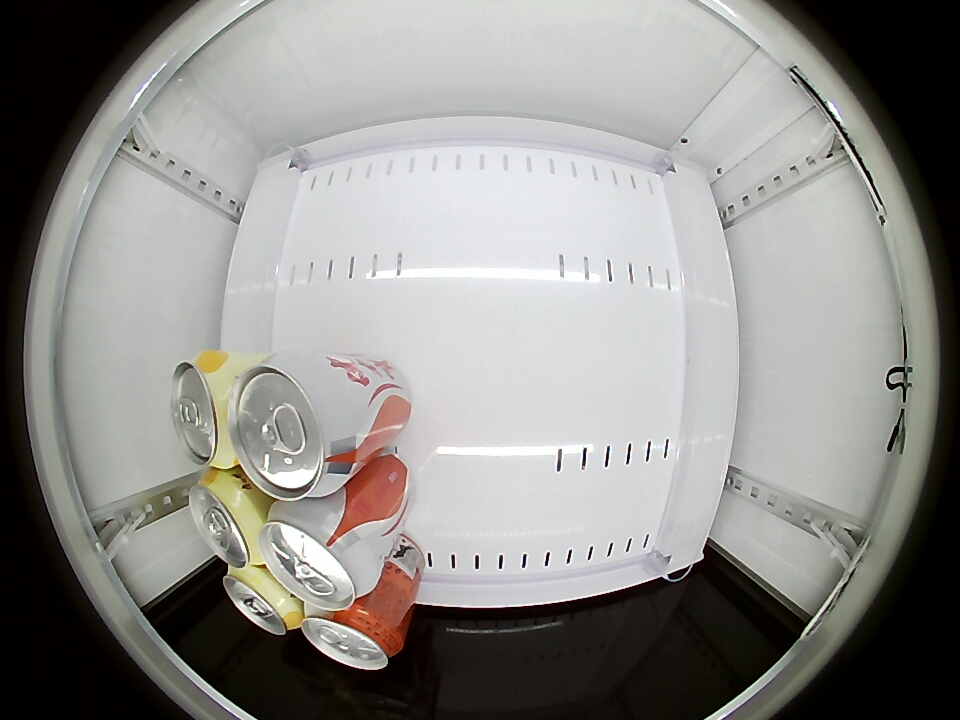jianlibao: (228, 355, 356, 501), (259, 499, 376, 610), (302, 605, 402, 670)
mangguoxiaolao: (171, 353, 237, 469), (188, 472, 264, 568), (223, 566, 301, 636)
